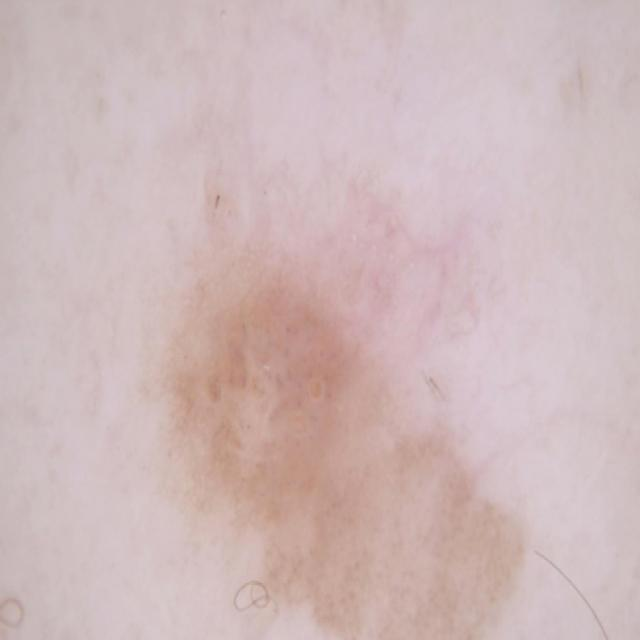Dermatofibroma: (145, 197, 574, 640)
